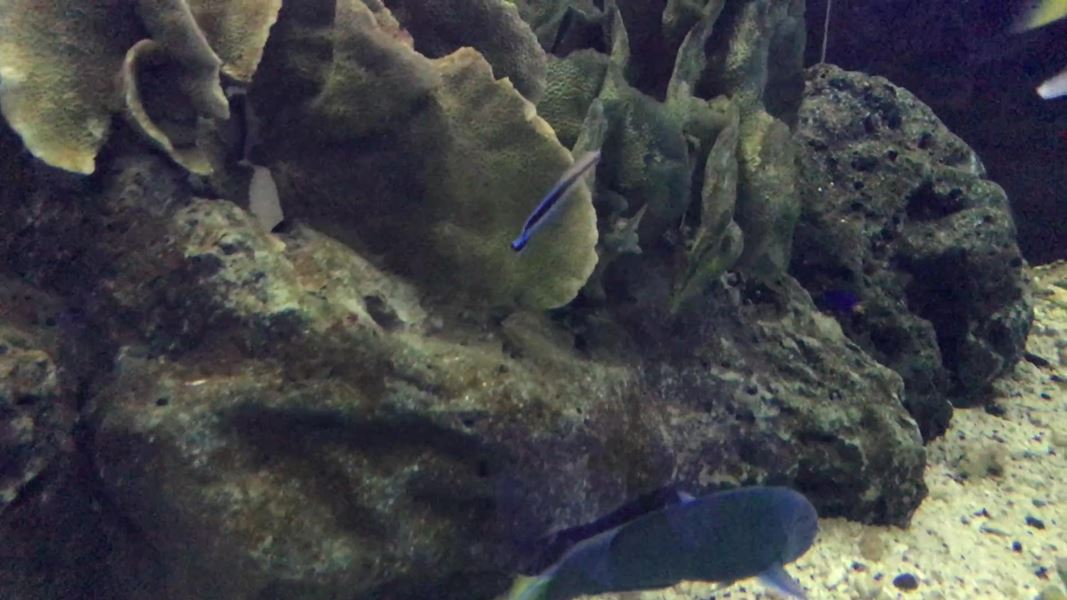Bluesteak cleaner wrasse: (502, 140, 606, 265)
